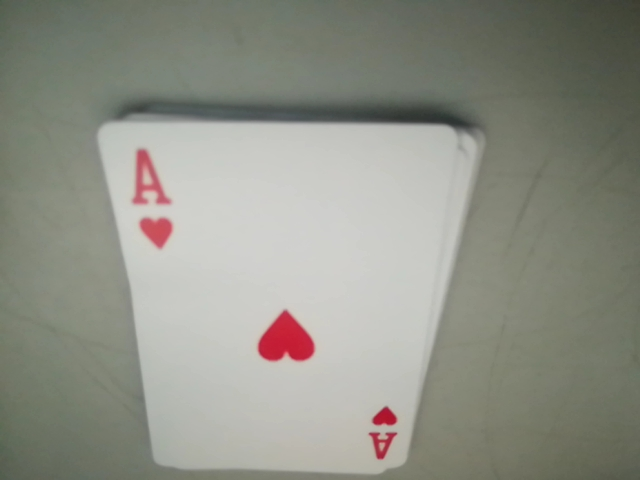hx a: (119, 151, 187, 255), (360, 400, 409, 468)
